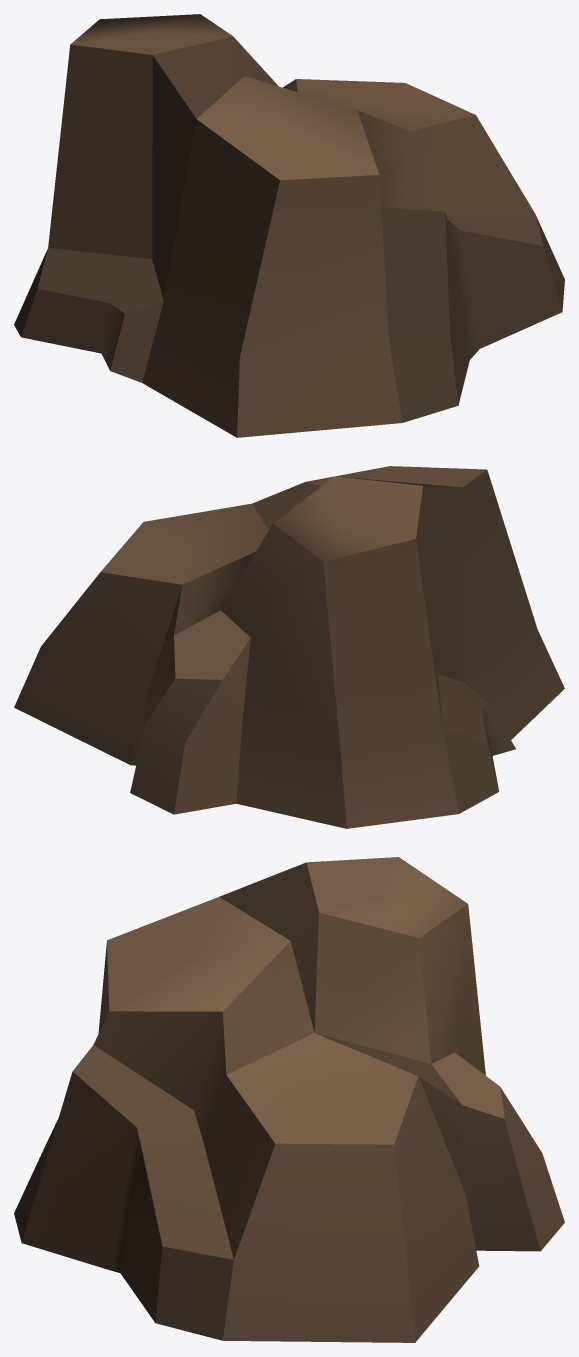
File: Rock_1.fbx
The picture shows the model from 3 angles, top to bottom: view 1: azimuth 30°, elevation 25°; view 2: azimuth 150°, elevation 25°; view 3: azimuth 270°, elevation 25°; orthographic projection. The views are drawn at different scales.
Parts seen in each view (by area): view 1: Rock_1; view 2: Rock_1; view 3: Rock_1.
Part boxes in pixels (bbox=[...]): Rock_1: bbox=[14, 14, 564, 437]; Rock_1: bbox=[14, 466, 564, 828]; Rock_1: bbox=[14, 857, 564, 1342].
Size of the model in its own units: 368 by 212 by 356.
Materials: 1 (1 with a texture image).
